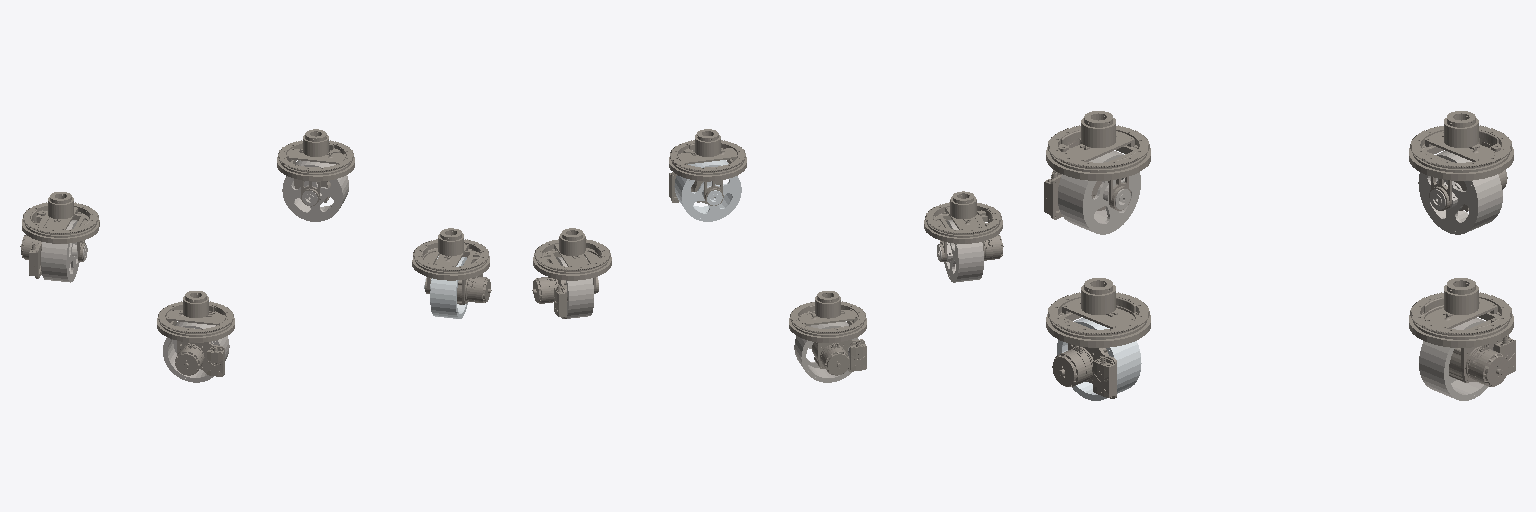
The robot description file, URDF, robot "myurdf_fix":
<?xml version="1.0" encoding="utf-8"?>
<!-- This URDF was automatically created by SolidWorks to URDF Exporter! Originally created by
[author] ([email redacted]) 
     Commit Version: 1.6.0-4-g7f85cfe  Build Version: 1.6.7995.38578
     For more information, please see http://wiki.ros.org/sw_urdf_exporter -->
<robot
  name="myurdf_fix">
  <link name='base_footprint' />
  <joint name='base_footprint_joint' type='fixed'>
    <origin xyz="0 0 0" rpy="0 0 0" />
    <parent link='base_footprint' />
    <child link='base_link' />
  </joint>
  <link name='laser_link' />
  <joint name='laser_joint' type='fixed'>
    <origin xyz="0 0 0.15" rpy="0 0 0" />
    <parent link='base_link' />
    <child link='laser_link' />
  </joint>
  <link name='camera_link' />
  <joint name='camera_joint' type='fixed'>
    <origin xyz="0 0 0.4" rpy="0 0 3.1415926" />
    <parent link='base_link' />
    <child link='camera_link' />
  </joint>
  <link
    name="base_link">
    <inertial>
      <origin
        xyz="-0.00134195390733982 0.00857867844676492 -0.00415434685325502"
        rpy="0 0 0" />
      <mass
        value="1.95577438123772" />
      <inertia
        ixx="0.0154639028570486"
        ixy="4.36382890736415E-05"
        ixz="5.90932548570652E-11"
        iyy="0.0133714917548376"
        iyz="2.29370931819144E-06"
        izz="0.0286717017267533" />
    </inertial>
    <visual>
      <origin
        xyz="0 0 0"
        rpy="0 0 0" />
      <geometry>
        <mesh
          filename="package://my_tf_tree/meshes/base_link.obj" />
      </geometry>
      <material
        name="">
        <color
          rgba="0.898039215686275 0.917647058823529 0.929411764705882 1" />
      </material>
    </visual>
    <collision>
      <origin
        xyz="0 0 0"
        rpy="0 0 0" />
      <geometry>
        <mesh
          filename="package://my_tf_tree/meshes/base_link.obj" />
      </geometry>
    </collision>
  </link>
  <link
    name="front_right_steering">
    <inertial>
      <origin
        xyz="0.00801776215731034 -0.0117428465609573 0.000580924898174157"
        rpy="0 0 0" />
      <mass
        value="0.610591222095894" />
      <inertia
        ixx="0.000582629289495863"
        ixy="-4.99430083725306E-07"
        ixz="1.10358360622854E-05"
        iyy="0.000991102871531918"
        iyz="-8.35472068741382E-06"
        izz="0.000533386188927072" />
    </inertial>
    <visual>
      <origin
        xyz="0 0 0"
        rpy="0 0 0" />
      <geometry>
        <mesh
          filename="package://my_tf_tree/meshes/front_right_steering.obj" />
      </geometry>
      <material
        name="">
        <color
          rgba="0.647058823529412 0.619607843137255 0.588235294117647 1" />
      </material>
    </visual>
    <collision>
      <origin
        xyz="0 0 0"
        rpy="0 0 0" />
      <geometry>
        <mesh
          filename="package://my_tf_tree/meshes/front_right_steering.obj" />
      </geometry>
    </collision>
  </link>
  <joint
    name="front_right_steering_joint"
    type="continuous">
    <origin
      xyz="-0.23737 -0.21658 0.01281"
      rpy="1.5708 0 -2.1067" />
    <parent
      link="base_link" />
    <child
      link="front_right_steering" />
    <axis
      xyz="0 -1 0" />
  </joint>
  <link
    name="front_right_wheel">
    <inertial>
      <origin
        xyz="-1.36224666647811E-05 -0.00233860532400534 -1.278132998489E-05"
        rpy="0 0 0" />
      <mass
        value="0.265552463932757" />
      <inertia
        ixx="0.000257423769631664"
        ixy="4.21536341431832E-07"
        ixz="6.90830608456444E-07"
        iyy="0.00042589263687006"
        iyz="3.86659897806611E-07"
        izz="0.000257304300299443" />
    </inertial>
    <visual>
      <origin
        xyz="0 0 0"
        rpy="0 0 0" />
      <geometry>
        <mesh
          filename="package://my_tf_tree/meshes/front_right_wheel.obj" />
      </geometry>
      <material
        name="">
        <color
          rgba="0.776470588235294 0.756862745098039 0.737254901960784 1" />
      </material>
    </visual>
    <collision>
      <origin
        xyz="0 0 0"
        rpy="0 0 0" />
      <geometry>
        <mesh
          filename="package://my_tf_tree/meshes/front_right_wheel.obj" />
      </geometry>
    </collision>
  </link>
  <joint
    name="front_right_wheel_joint"
    type="continuous">
    <origin
      xyz="-0.0087483 -0.041 -0.0021067"
      rpy="-2.9038 -0.11023 -1.5975" />
    <parent
      link="front_right_steering" />
    <child
      link="front_right_wheel" />
    <axis
      xyz="0 1 0" />
  </joint>
  <link
    name="front_left_steering">
    <inertial>
      <origin
        xyz="0.00801776215571048 -0.0117428465598819 0.000580924897009727"
        rpy="0 0 0" />
      <mass
        value="0.610591222055897" />
      <inertia
        ixx="0.00058262928949571"
        ixy="-4.99430083842299E-07"
        ixz="1.10358360623182E-05"
        iyy="0.000991102871531828"
        iyz="-8.35472068740538E-06"
        izz="0.000533386188926846" />
    </inertial>
    <visual>
      <origin
        xyz="0 0 0"
        rpy="0 0 0" />
      <geometry>
        <mesh
          filename="package://my_tf_tree/meshes/front_left_steering.obj" />
      </geometry>
      <material
        name="">
        <color
          rgba="0.647058823529412 0.619607843137255 0.588235294117647 1" />
      </material>
    </visual>
    <collision>
      <origin
        xyz="0 0 0"
        rpy="0 0 0" />
      <geometry>
        <mesh
          filename="package://my_tf_tree/meshes/front_left_steering.obj" />
      </geometry>
    </collision>
  </link>
  <joint
    name="front_left_steering_joint"
    type="continuous">
    <origin
      xyz="0.23463 -0.21658 0.01281"
      rpy="1.5708 0 -0.53589" />
    <parent
      link="base_link" />
    <child
      link="front_left_steering" />
    <axis
      xyz="0 -1 0" />
  </joint>
  <link
    name="front_left_wheel">
    <inertial>
      <origin
        xyz="2.10718168858204E-07 -0.0153386053240053 0.00058132141354203"
        rpy="0 0 0" />
      <mass
        value="0.265552463932757" />
      <inertia
        ixx="0.000256670626601085"
        ixy="-2.43945488809238E-19"
        ixz="1.42301535138722E-19"
        iyy="0.00042589263687006"
        iyz="5.72012905204114E-07"
        izz="0.000258057443330023" />
    </inertial>
    <visual>
      <origin
        xyz="0 0 0"
        rpy="0 0 0" />
      <geometry>
        <mesh
          filename="package://my_tf_tree/meshes/front_left_wheel.obj" />
      </geometry>
      <material
        name="">
        <color
          rgba="0.898039215686275 0.917647058823529 0.929411764705882 1" />
      </material>
    </visual>
    <collision>
      <origin
        xyz="0 0 0"
        rpy="0 0 0" />
      <geometry>
        <mesh
          filename="package://my_tf_tree/meshes/front_left_wheel.obj" />
      </geometry>
    </collision>
  </link>
  <joint
    name="front_left_wheel_joint"
    type="continuous">
    <origin
      xyz="-0.02147 -0.040515 -0.0048072"
      rpy="-2.753 -0.90465 -1.8822" />
    <parent
      link="front_left_steering" />
    <child
      link="front_left_wheel" />
    <axis
      xyz="0 1 0" />
  </joint>
  <link
    name="back_right_steering">
    <inertial>
      <origin
        xyz="0.00801776215587333 -0.0117428465600048 0.000580924897084528"
        rpy="0 0 0" />
      <mass
        value="0.610591222059871" />
      <inertia
        ixx="0.00058262928949572"
        ixy="-4.99430083847526E-07"
        ixz="1.10358360622257E-05"
        iyy="0.00099110287153194"
        iyz="-8.35472068737837E-06"
        izz="0.000533386188926869" />
    </inertial>
    <visual>
      <origin
        xyz="0 0 0"
        rpy="0 0 0" />
      <geometry>
        <mesh
          filename="package://my_tf_tree/meshes/back_right_steering.obj" />
      </geometry>
      <material
        name="">
        <color
          rgba="0.647058823529412 0.619607843137255 0.588235294117647 1" />
      </material>
    </visual>
    <collision>
      <origin
        xyz="0 0 0"
        rpy="0 0 0" />
      <geometry>
        <mesh
          filename="package://my_tf_tree/meshes/back_right_steering.obj" />
      </geometry>
    </collision>
  </link>
  <joint
    name="back_right_steering_joint"
    type="continuous">
    <origin
      xyz="-0.23737 0.21658 0.01281"
      rpy="1.5708 0 2.6057" />
    <parent
      link="base_link" />
    <child
      link="back_right_steering" />
    <axis
      xyz="0 -1 0" />
  </joint>
  <link
    name="back_right_wheel">
    <inertial>
      <origin
        xyz="-1.36224666647533E-05 -0.00233860532400544 -1.27813299849455E-05"
        rpy="0 0 0" />
      <mass
        value="0.265552463932757" />
      <inertia
        ixx="0.000257423769631664"
        ixy="4.21536341431748E-07"
        ixz="6.90830608456542E-07"
        iyy="0.00042589263687006"
        iyz="3.86659897806611E-07"
        izz="0.000257304300299443" />
    </inertial>
    <visual>
      <origin
        xyz="0 0 0"
        rpy="0 0 0" />
      <geometry>
        <mesh
          filename="package://my_tf_tree/meshes/back_right_wheel.obj" />
      </geometry>
      <material
        name="">
        <color
          rgba="0.776470588235294 0.756862745098039 0.737254901960784 1" />
      </material>
    </visual>
    <collision>
      <origin
        xyz="0 0 0"
        rpy="0 0 0" />
      <geometry>
        <mesh
          filename="package://my_tf_tree/meshes/back_right_wheel.obj" />
      </geometry>
    </collision>
  </link>
  <joint
    name="back_right_wheel_joint"
    type="continuous">
    <origin
      xyz="-0.0087483 -0.041 -0.0021067"
      rpy="-2.9038 -0.11023 -1.5975" />
    <parent
      link="back_right_steering" />
    <child
      link="back_right_wheel" />
    <axis
      xyz="0 1 0" />
  </joint>
  <link
    name="back_left_steering">
    <inertial>
      <origin
        xyz="0.00801776215485611 -0.0117428465593348 0.000580924896310397"
        rpy="0 0 0" />
      <mass
        value="0.610591222034384" />
      <inertia
        ixx="0.000582629289495632"
        ixy="-4.99430083911262E-07"
        ixz="1.10358360622292E-05"
        iyy="0.00099110287153188"
        iyz="-8.35472068738683E-06"
        izz="0.000533386188926729" />
    </inertial>
    <visual>
      <origin
        xyz="0 0 0"
        rpy="0 0 0" />
      <geometry>
        <mesh
          filename="package://my_tf_tree/meshes/back_left_steering.obj" />
      </geometry>
      <material
        name="">
        <color
          rgba="0.647058823529412 0.619607843137255 0.588235294117647 1" />
      </material>
    </visual>
    <collision>
      <origin
        xyz="0 0 0"
        rpy="0 0 0" />
      <geometry>
        <mesh
          filename="package://my_tf_tree/meshes/back_left_steering.obj" />
      </geometry>
    </collision>
  </link>
  <joint
    name="back_left_steering_joint"
    type="continuous">
    <origin
      xyz="0.23463 0.21658 0.01281"
      rpy="1.5708 0 1.0349" />
    <parent
      link="base_link" />
    <child
      link="back_left_steering" />
    <axis
      xyz="0 -1 0" />
  </joint>
  <link
    name="back_left_wheel">
    <inertial>
      <origin
        xyz="-1.36224666647741E-05 -0.00233860532400532 -1.27813299848067E-05"
        rpy="0 0 0" />
      <mass
        value="0.265552463932757" />
      <inertia
        ixx="0.000257423769631664"
        ixy="4.21536341431804E-07"
        ixz="6.90830608456558E-07"
        iyy="0.00042589263687006"
        iyz="3.866598978063E-07"
        izz="0.000257304300299443" />
    </inertial>
    <visual>
      <origin
        xyz="0 0 0"
        rpy="0 0 0" />
      <geometry>
        <mesh
          filename="package://my_tf_tree/meshes/back_left_wheel.obj" />
      </geometry>
      <material
        name="">
        <color
          rgba="0.776470588235294 0.756862745098039 0.737254901960784 1" />
      </material>
    </visual>
    <collision>
      <origin
        xyz="0 0 0"
        rpy="0 0 0" />
      <geometry>
        <mesh
          filename="package://my_tf_tree/meshes/back_left_wheel.obj" />
      </geometry>
    </collision>
  </link>
  <joint
    name="back_left_wheel_joint"
    type="continuous">
    <origin
      xyz="-0.0087483 -0.041 -0.0021067"
      rpy="-2.9038 -0.11023 -1.5975" />
    <parent
      link="back_left_steering" />
    <child
      link="back_left_wheel" />
    <axis
      xyz="0 1 0" />
  </joint>
</robot>

--- Facts derived from the render (not from the file) ---
Views: 3 orthographic renders of the robot side by side, from view 1: azimuth 30°, elevation 25°; view 2: azimuth 150°, elevation 25°; view 3: azimuth 270°, elevation 25°.
Robot: myurdf_fix — 12 links, 11 joints (8 continuous, 3 fixed); root link base_footprint; default pose: all joints at 0.
Links seen in each view (by area): view 1: front_right_steering, front_left_steering, back_right_steering, back_left_steering, back_left_wheel, back_right_wheel, front_left_wheel, front_right_wheel; view 2: back_right_steering, back_left_steering, front_right_steering, front_left_steering, front_left_wheel, front_right_wheel, back_left_wheel, back_right_wheel; view 3: front_left_steering, back_left_steering, front_right_steering, back_right_steering, back_right_wheel, front_right_wheel, back_left_wheel, front_left_wheel.
Boxes of the visible links, <box> form: front_right_steering: <box>157,291,234,376</box>; front_left_steering: <box>412,228,491,304</box>; back_right_steering: <box>20,192,99,278</box>; back_left_steering: <box>277,129,354,206</box>; back_left_wheel: <box>282,160,348,221</box>; back_right_wheel: <box>41,220,87,282</box>; front_left_wheel: <box>424,256,467,318</box>; front_right_wheel: <box>163,321,229,382</box>; back_right_steering: <box>789,291,866,375</box>; back_left_steering: <box>532,228,611,318</box>; front_right_steering: <box>924,191,1003,261</box>; front_left_steering: <box>669,129,746,205</box>; front_left_wheel: <box>674,160,741,221</box>; front_right_wheel: <box>937,220,983,282</box>; back_left_wheel: <box>556,257,598,318</box>; back_right_wheel: <box>794,321,858,382</box>; front_left_steering: <box>1046,278,1150,398</box>; back_left_steering: <box>1409,278,1515,386</box>; front_right_steering: <box>1044,111,1150,219</box>; back_right_steering: <box>1409,111,1513,211</box>; back_right_wheel: <box>1418,151,1502,234</box>; front_right_wheel: <box>1058,151,1140,234</box>; back_left_wheel: <box>1419,318,1493,400</box>; front_left_wheel: <box>1057,318,1141,400</box>.
Bounding box of the posed robot: 0.6016 × 0.5628 × 0.1453 m (x, y, z).
Meshes: 9 distinct files referenced, 8 mesh visuals loaded (8 OBJ); not drawn: 1 (reference not matched to a file when rendering).